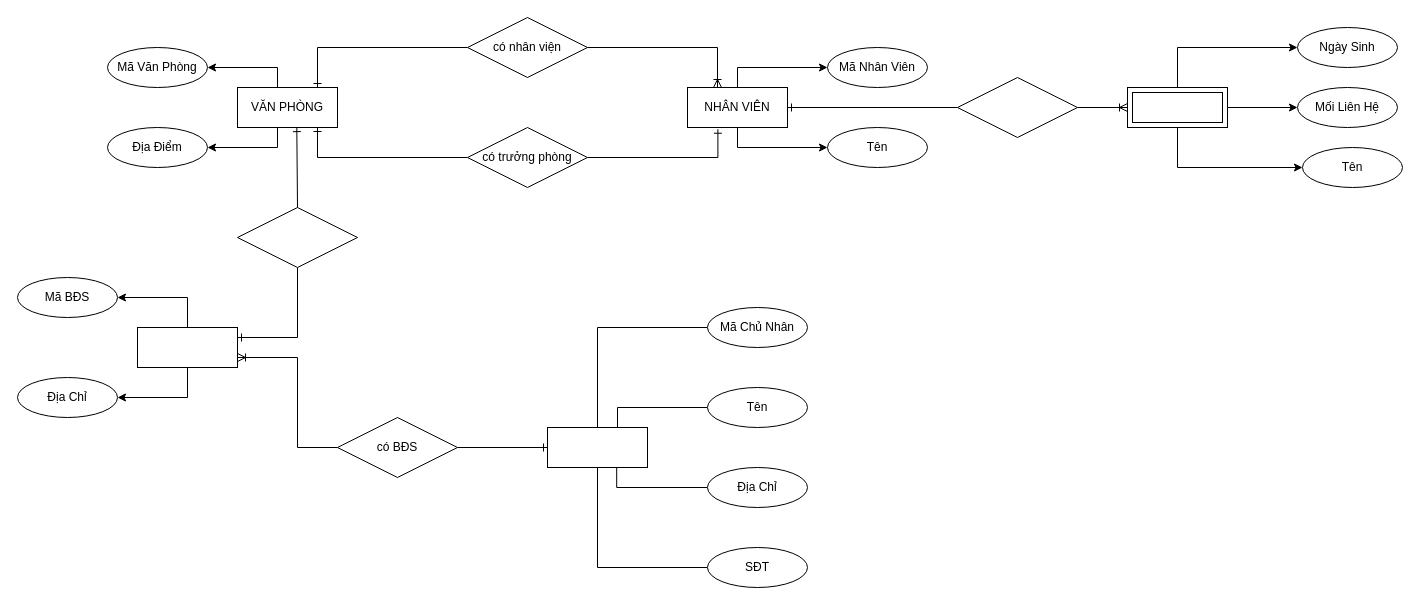
Some shapes in this 1420 by 605 pixel diagram are drawn without their labels. Here are the shapes that lost their labels. From the top down, the centre of each, then its label:
At [1017,107]: "có".
At [1177,107]: "THÂN NHÂN".
At [297,237]: "được rao bán ở".
At [187,347]: "BĐS".
At [597,447]: "CHỦ NHÂN".
